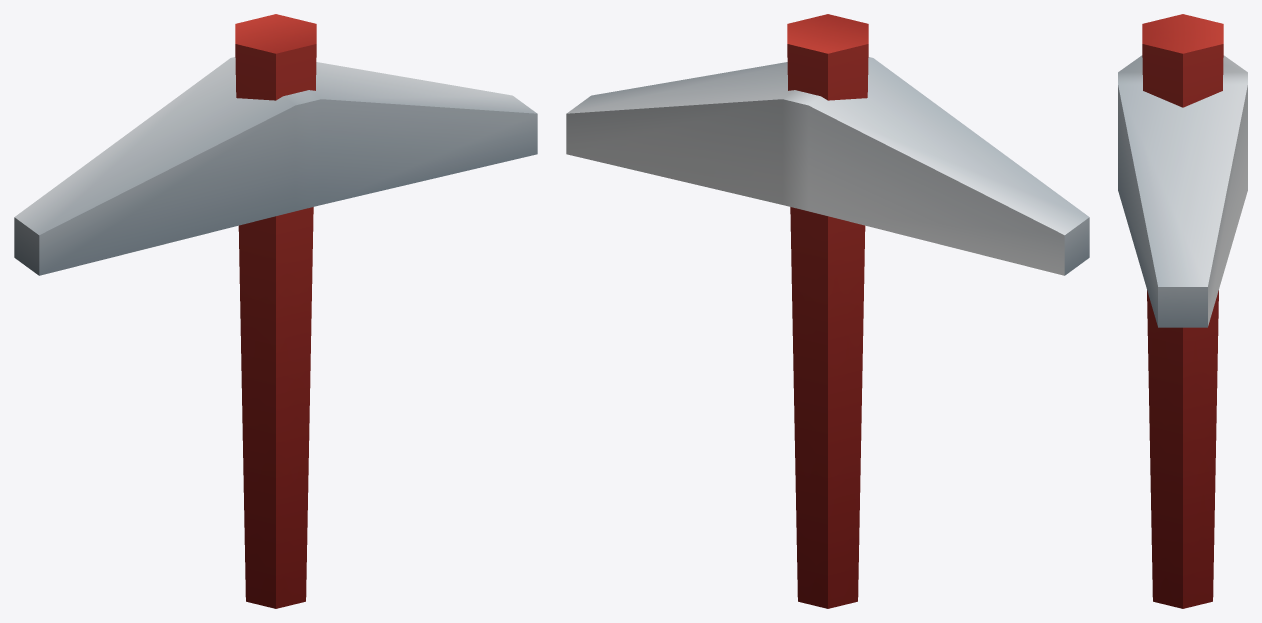
File: pickAxe.fbx
The picture shows the model from 3 angles, left to right: view 1: azimuth 30°, elevation 25°; view 2: azimuth 150°, elevation 25°; view 3: azimuth 270°, elevation 25°; orthographic projection.
Visible parts, largest first — view 1: polySurface2; view 2: polySurface2; view 3: polySurface2.
Part boxes in pixels (box(x1,y1,x2,y2)): polySurface2: box(14, 14, 537, 608); polySurface2: box(566, 14, 1089, 608); polySurface2: box(1118, 14, 1247, 608).
Size of the model in its own units: 4.44 by 4.77 by 1.
